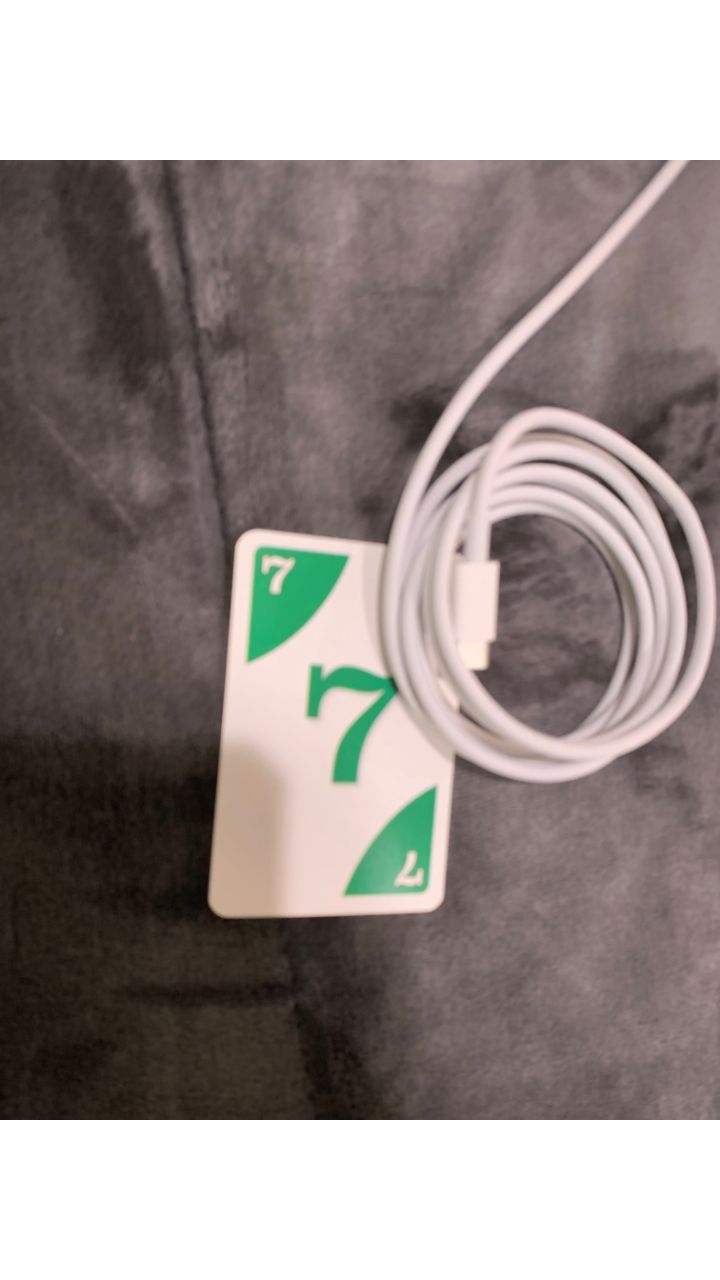seven: (200, 530, 464, 922)
